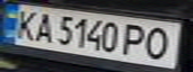0: (100, 19, 124, 54)
1: (69, 16, 87, 48)
4: (84, 17, 106, 52)
5: (54, 12, 75, 46)
A: (30, 10, 57, 44)
K: (9, 7, 42, 42)
O: (139, 25, 178, 61)
P: (121, 21, 151, 56)
